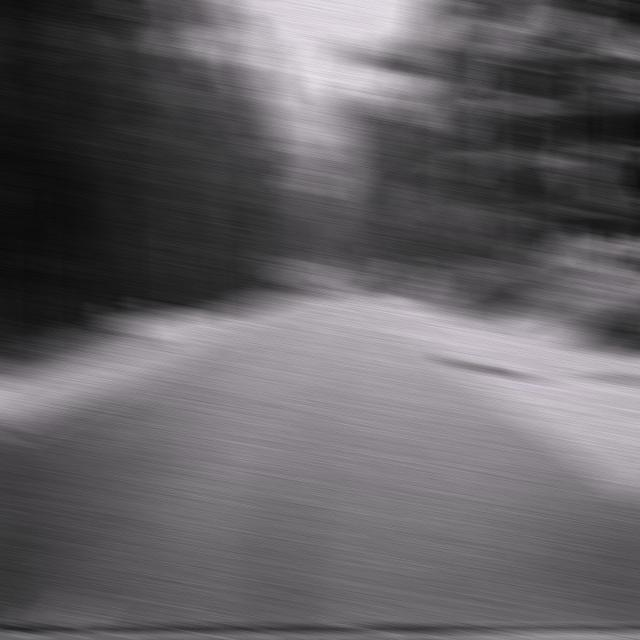pedestrianCrossing: (560, 133, 614, 205)
